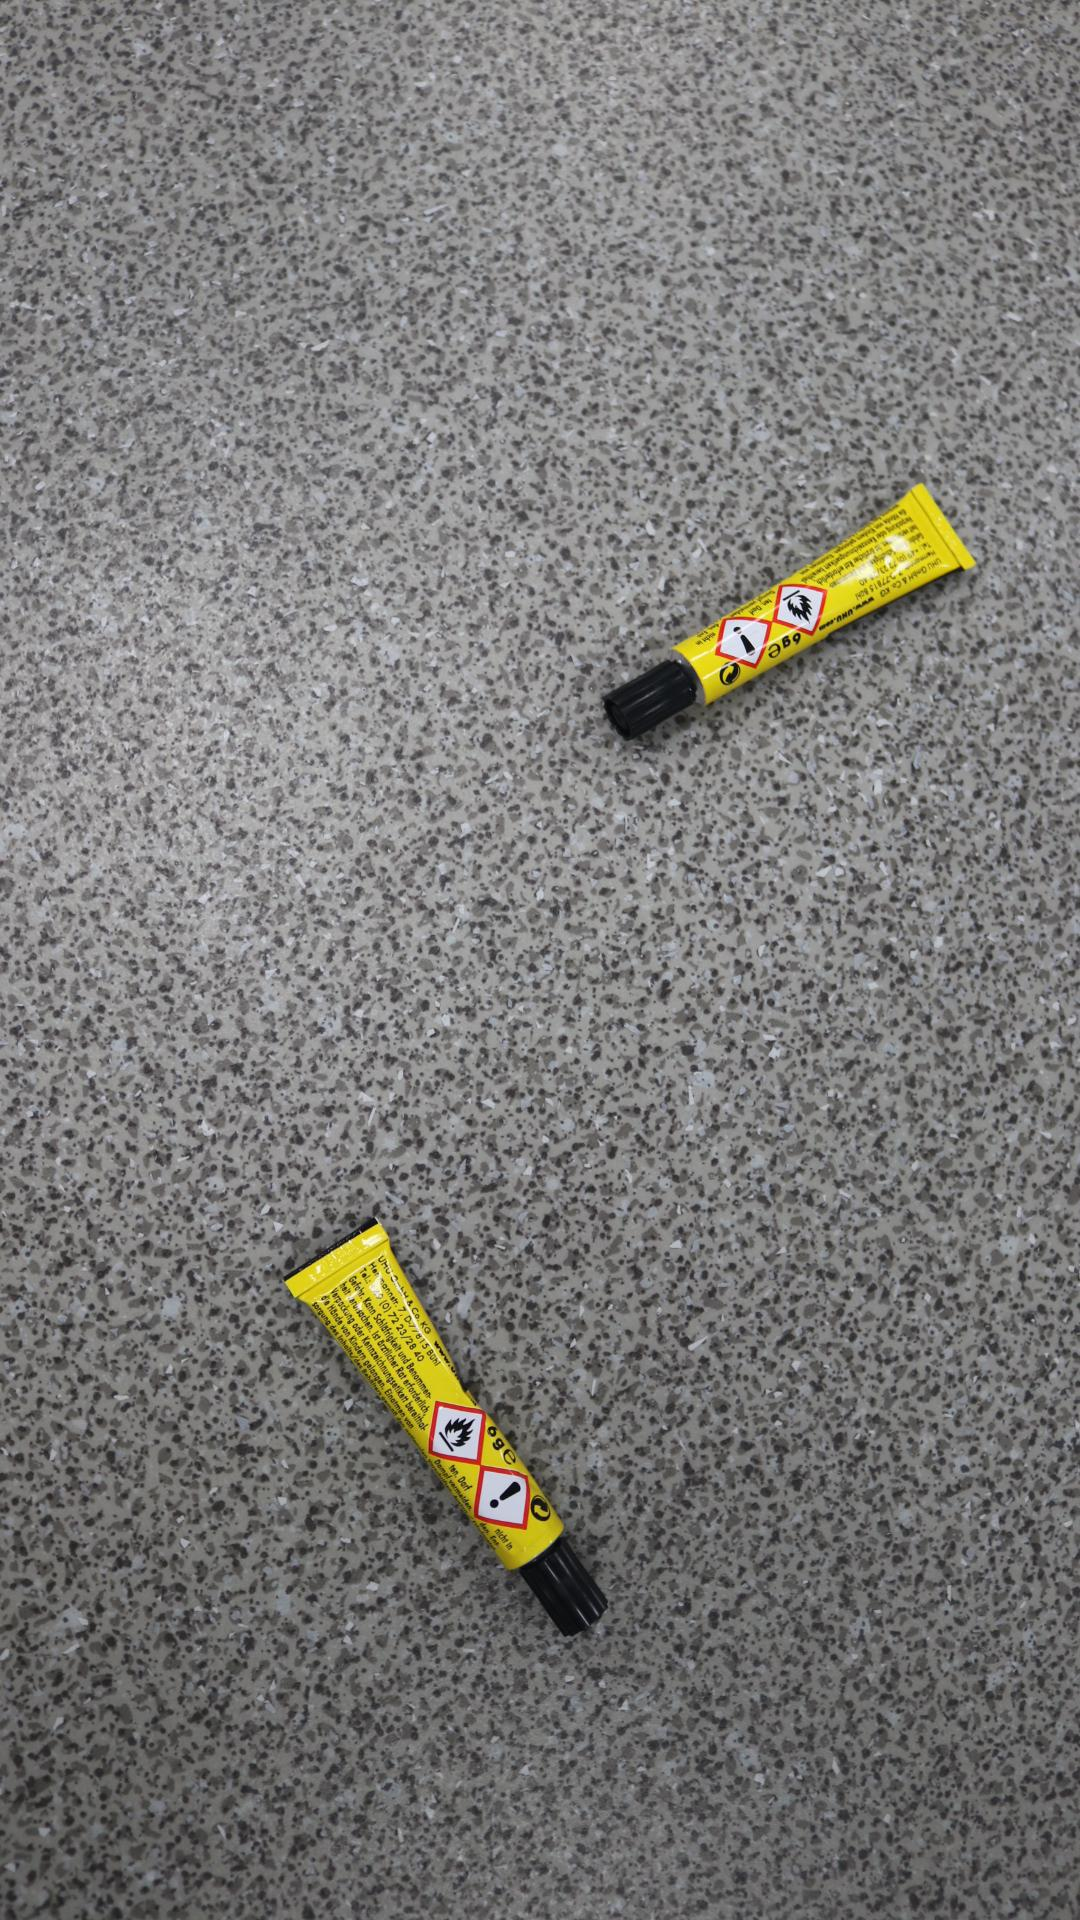Head: (562, 1586, 572, 1595), (647, 693, 655, 701)
Tail: (328, 1257, 337, 1265), (940, 521, 947, 529)
Tube: (285, 1217, 609, 1637), (602, 483, 980, 742)
